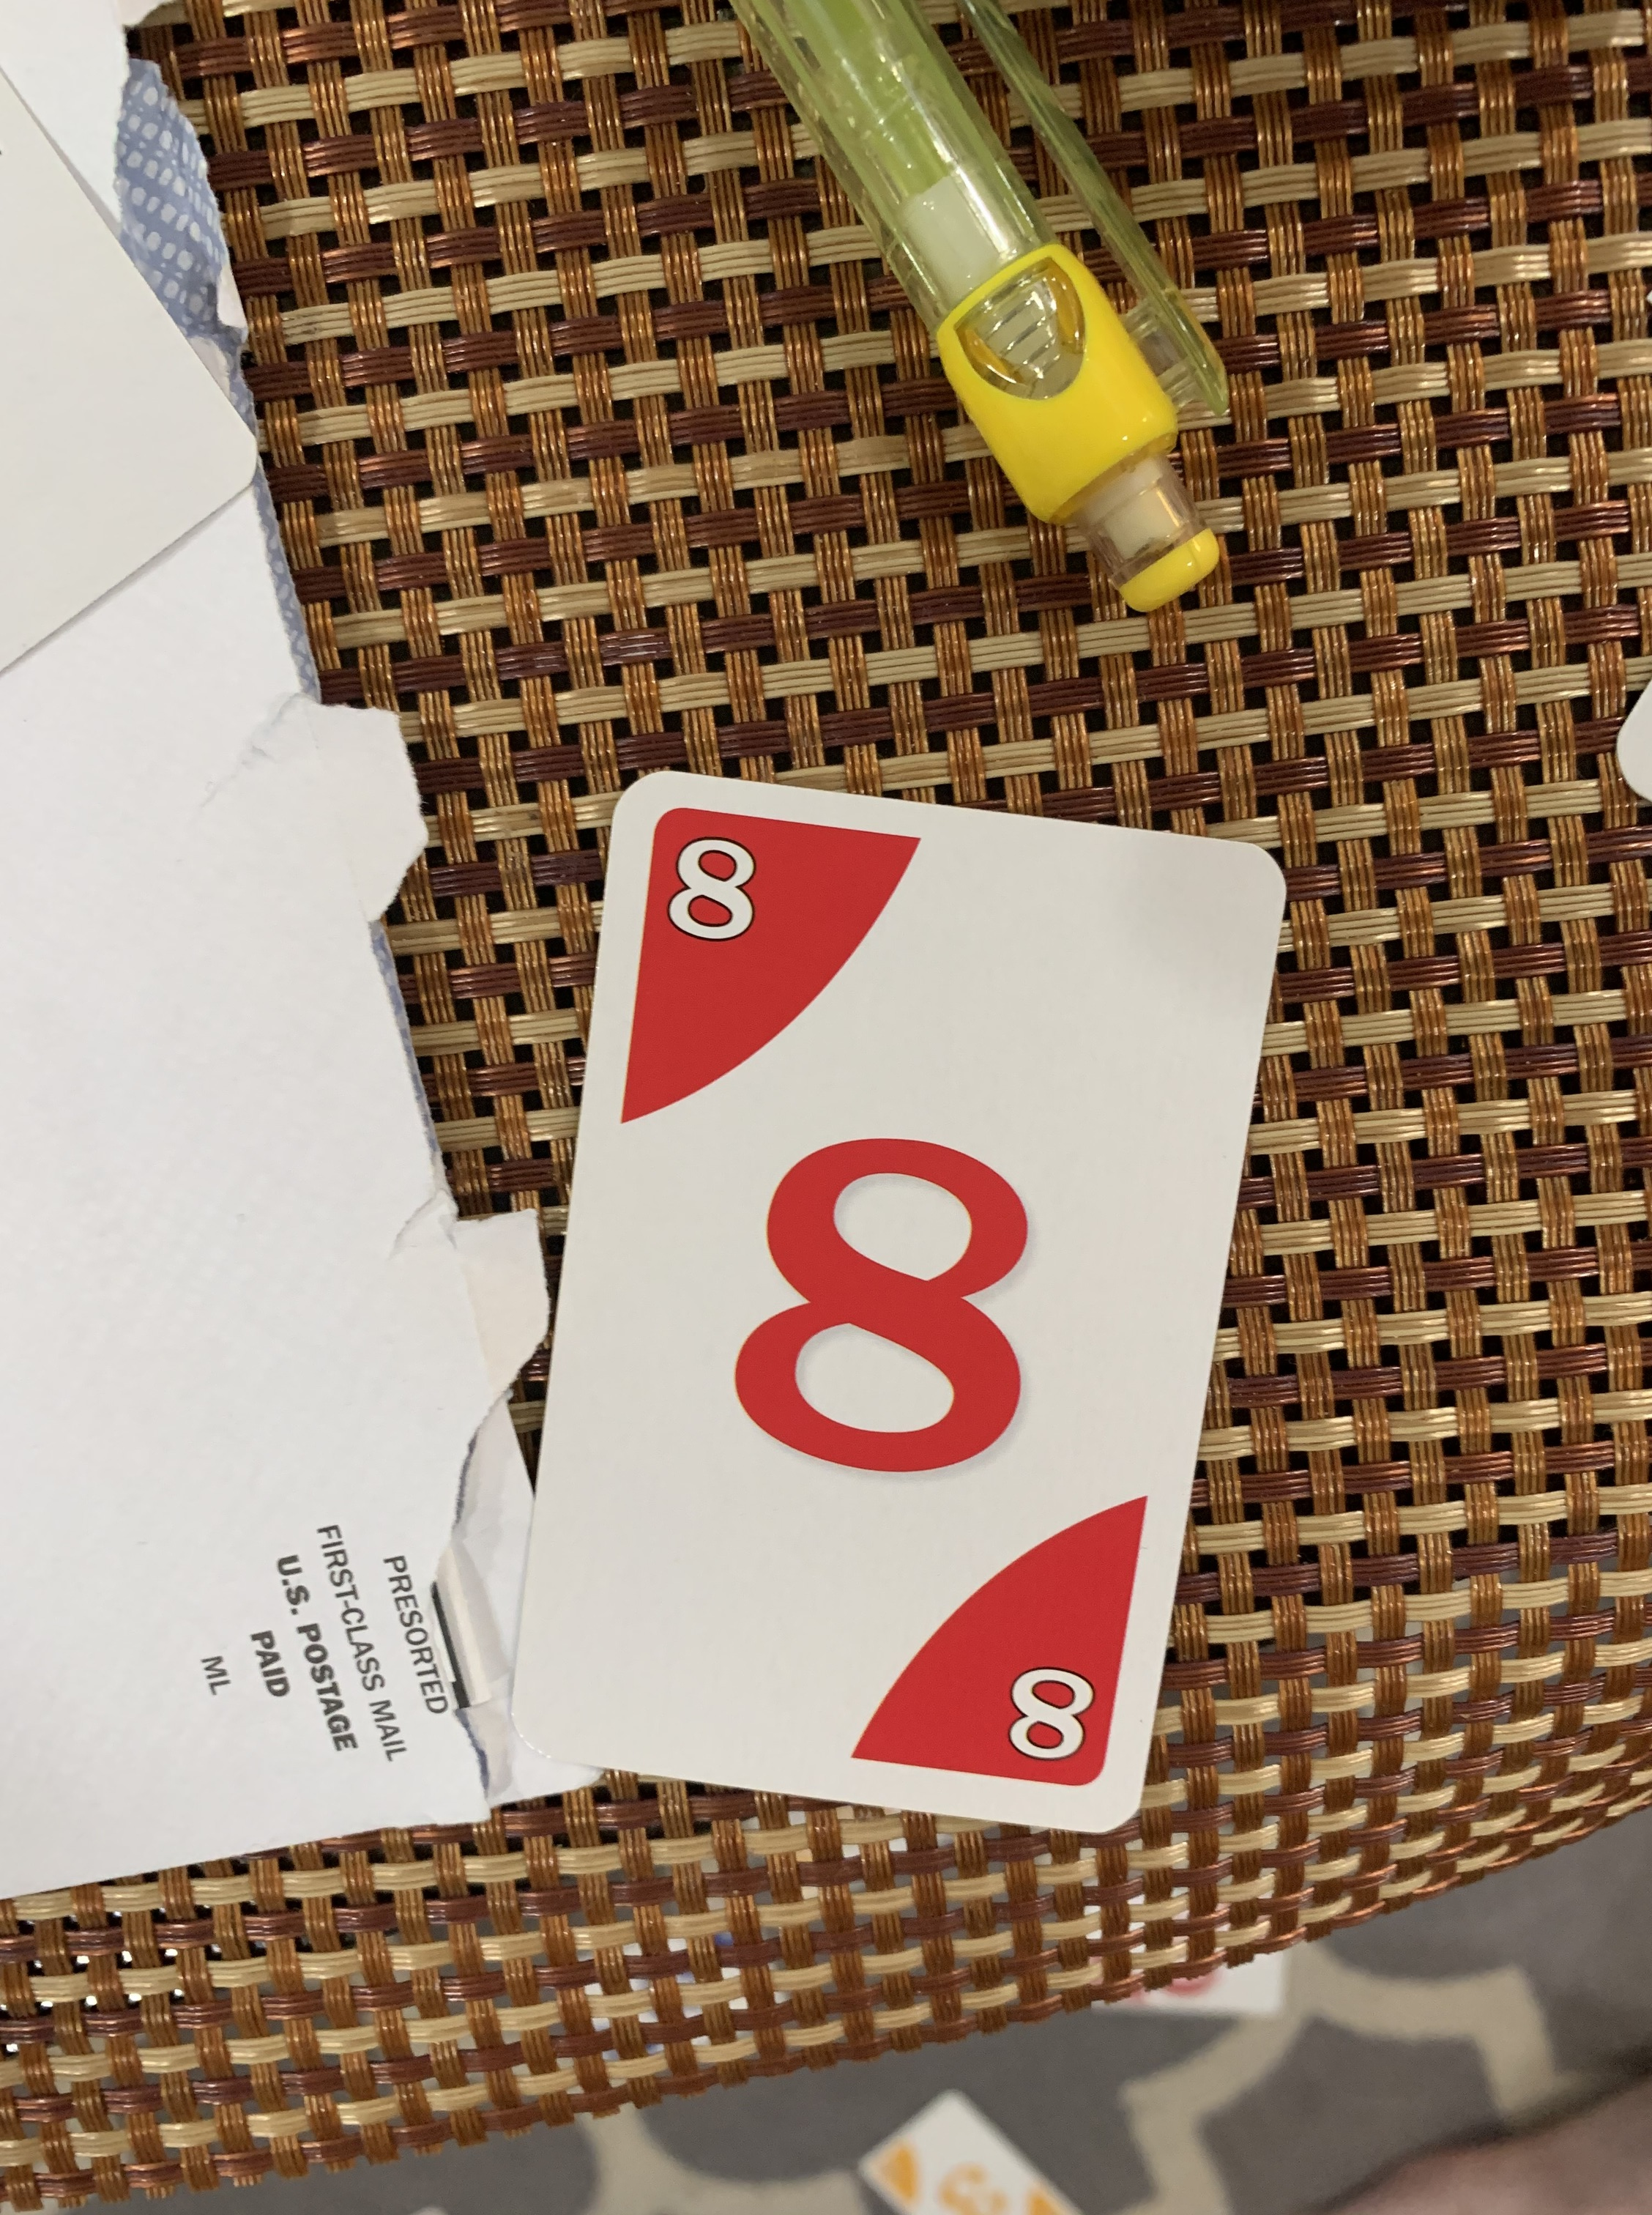eight: (472, 752, 1340, 1842)
